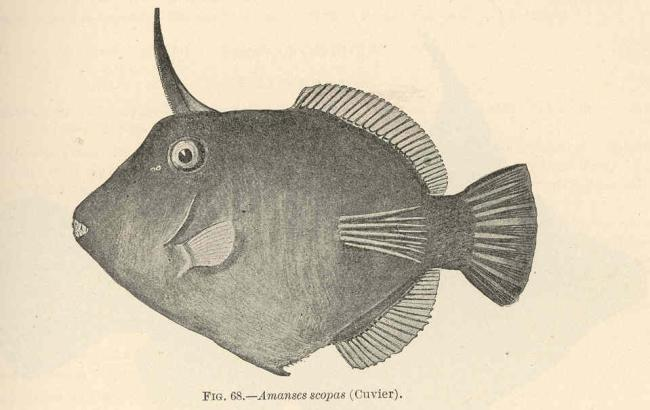fish: (71, 11, 540, 377)
